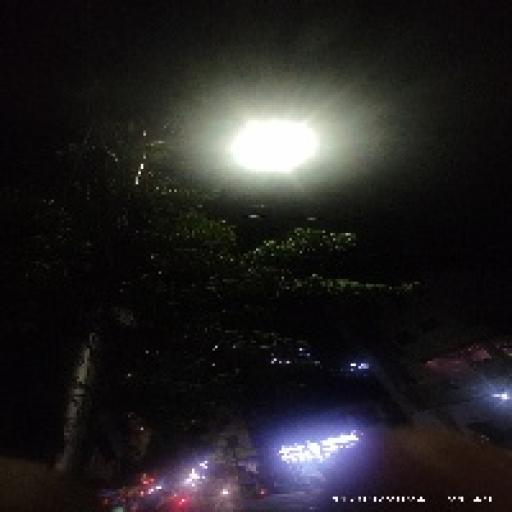Working: (218, 111, 324, 179)
